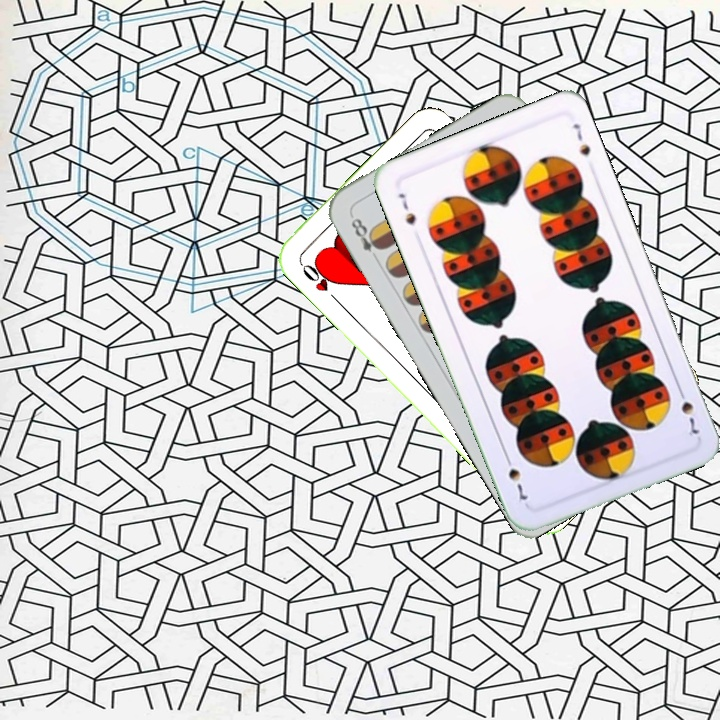E8: (346, 210, 386, 264)
HO: (296, 256, 342, 306)
S7: (674, 383, 702, 438), (394, 189, 419, 228)
